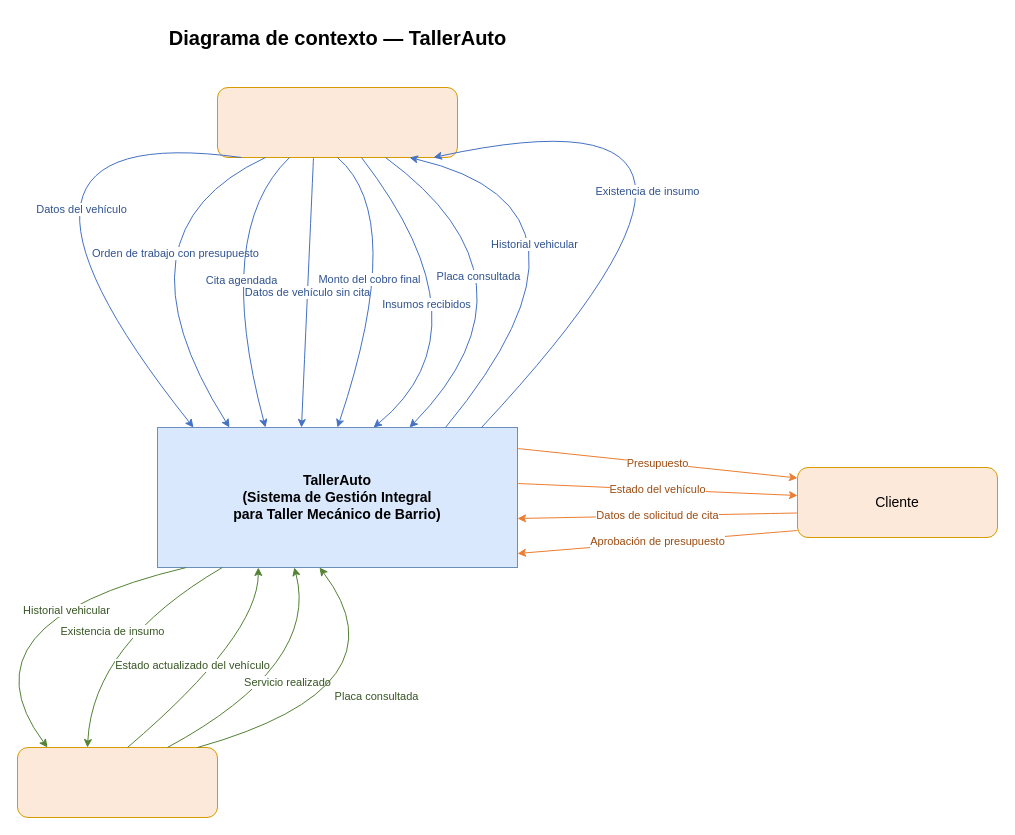
Image size: 1015x835. Some labels were removed from this diagram. The centre of each missing label's shape, as x and y in pixels:
"Administrador del Taller" goes at point (337, 122).
"Mecánico" goes at point (117, 782).
